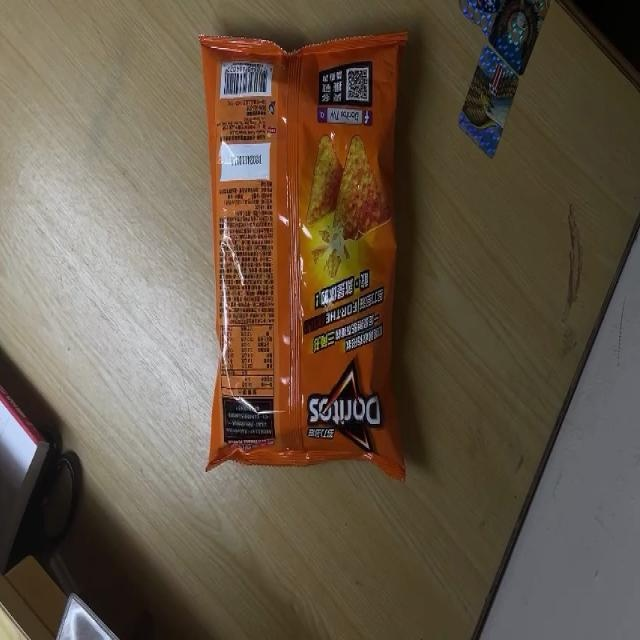Doritos: (201, 33, 405, 487)
